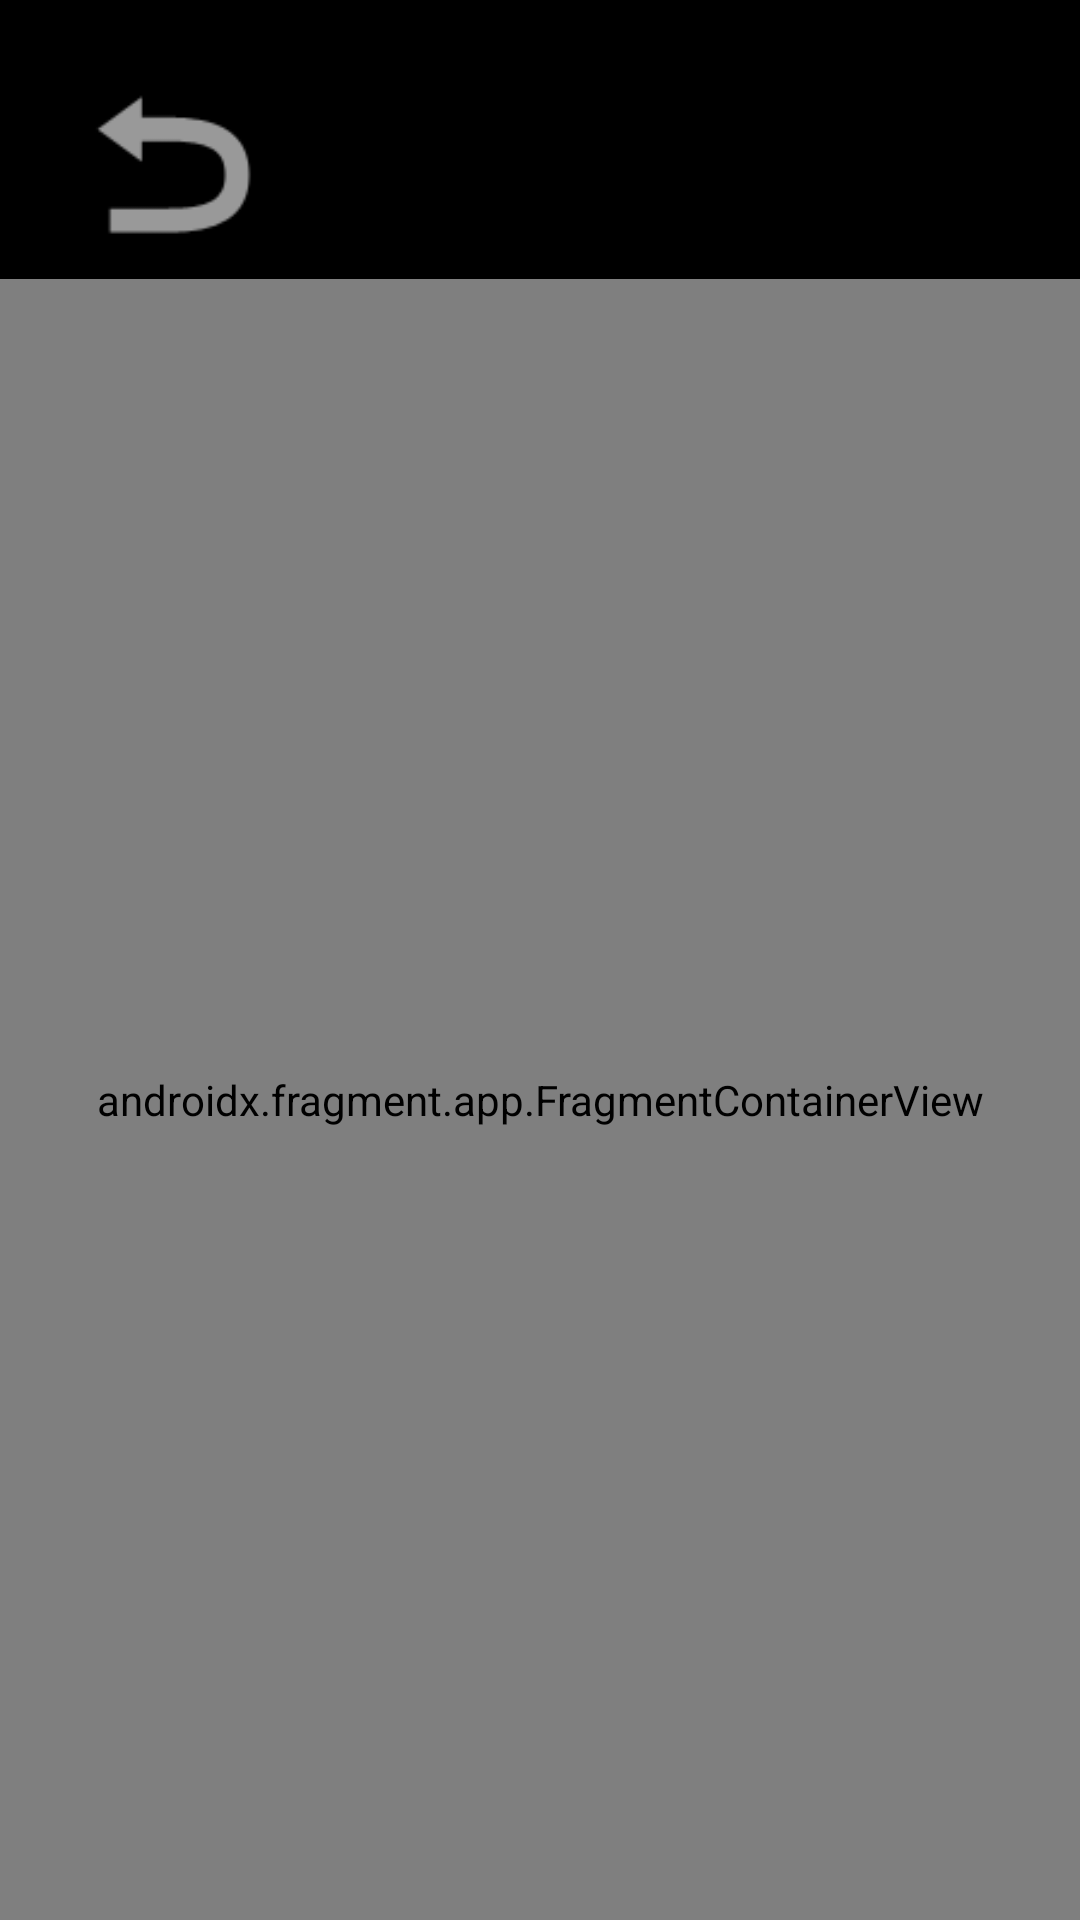

Icon click points for this 1080×1920 phone screenshot, format point (x, y):
revert: point (174, 165)
